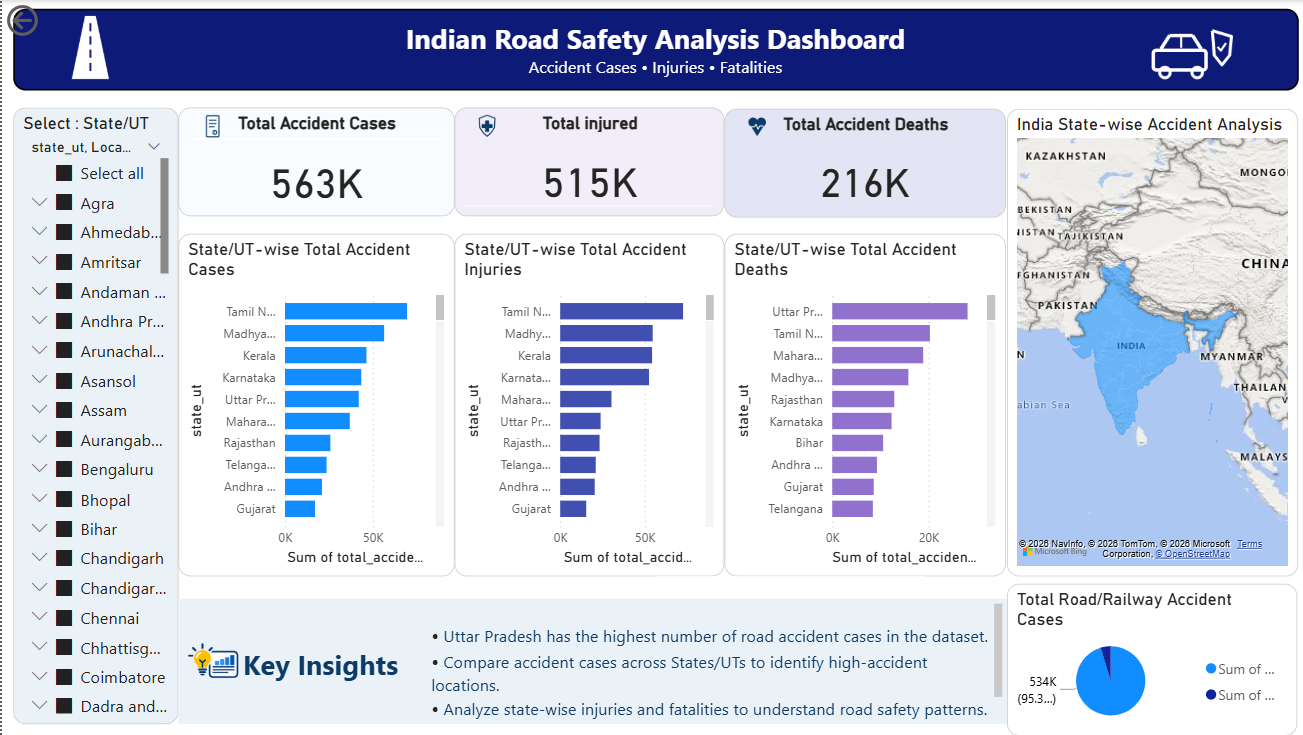

Layout of this report page (visuals, bound fields, positions):
{"tool":"powerbi","page":{"name":"Page 1","canvas":[1280,720],"ordinal":0},"visuals":[{"type":"cardVisual","title":"Total Accident Cases","fields":{"Data":["Sum(Indian_Road_Safety_Cleanesqldata_Analysis.total_accident_cases)"]},"box":[172.4,105.2,270.2,106.4],"z":0},{"type":"cardVisual","title":"Total injured","fields":{"Data":["Sum(Indian_Road_Safety_Cleanesqldata_Analysis.total_accident_injured)"]},"box":[442.7,105.2,264.1,106.4],"z":1000},{"type":"cardVisual","title":"Total Accident Deaths","fields":{"Data":["Sum(Indian_Road_Safety_Cleanesqldata_Analysis.total_accident_died)"]},"box":[706.8,106.4,275.1,106.4],"z":2000},{"type":"textbox","box":[11.2,8.8,1257.5,80],"z":3000},{"type":"clusteredBarChart","title":"State/UT-wise Total Accident Cases","fields":{"Category":["Indian_Road_Safety_Cleanesqldata_Analysis.state_ut"],"Y":["Sum(Indian_Road_Safety_Cleanesqldata_Analysis.total_accident_cases)"]},"box":[172.4,228.7,270.2,335.1],"z":4000},{"type":"clusteredBarChart","title":"State/UT-wise Total Accident Deaths","fields":{"Category":["Indian_Road_Safety_Cleanesqldata_Analysis.state_ut"],"Y":["Sum(Indian_Road_Safety_Cleanesqldata_Analysis.total_accident_died)"]},"box":[706.8,228.7,275.1,335.1],"z":5000},{"type":"clusteredBarChart","title":"State/UT-wise Total Accident Injuries","fields":{"Category":["Indian_Road_Safety_Cleanesqldata_Analysis.state_ut"],"Y":["Sum(Indian_Road_Safety_Cleanesqldata_Analysis.total_accident_injured)"]},"box":[442.7,228.7,264.1,335.1],"z":6000},{"type":"slicer","title":"Select : State/UT","fields":{"Values":["Indian_Road_Safety_Cleanesqldata_Analysis.state_ut","India_Map_Data.Location"]},"box":[11,105.2,161.4,602.9],"z":7000},{"type":"image","box":[0,5,172.5,83.8],"z":8000},{"type":"image","box":[1051.2,0,228.8,105],"z":9000},{"type":"image","box":[91.7,105.2,231.1,36.7],"z":10000},{"type":"image","box":[352.2,105.2,244.6,36.7],"z":11000},{"type":"image","box":[639.5,106.4,198.1,36.7],"z":12000},{"type":"textbox","box":[640,564,264,156],"z":13000},{"type":"textbox","box":[172.4,585.7,242.1,122.3],"z":14000},{"type":"image","box":[170,580.8,75.8,132.1],"z":15000},{"type":"textbox","box":[414.5,585.7,568.6,122.3],"z":16000},{"type":"filledMap","title":"India State-wise Accident Analysis","fields":{"Category":["India_Map_Data.Location"]},"box":[983.2,106.4,284.9,457.3],"z":17000},{"type":"actionButton","box":[0,0,100,40],"z":18000},{"type":"pieChart","title":"Total Road/Railway Accident Cases","fields":{"Y":["Sum(Indian_Road_Safety_Cleanesqldata_Analysis.road_accident_cases)","Sum(Indian_Road_Safety_Cleanesqldata_Analysis.railway_accident_cases)"]},"box":[983.2,571.1,283.7,149.2],"z":19000}]}

Visuals, with their boxes in screenshot pixels (x1, y1, x2, y2), scaled from the page's 1280x720 canvas onto the 1303x735 screenshot:
"Total Accident Cases" cardVisual: (175,107,451,216)
"Total injured" cardVisual: (451,107,720,216)
"Total Accident Deaths" cardVisual: (720,109,1000,217)
textbox: (11,9,1291,91)
"State/UT-wise Total Accident Cases" clusteredBarChart: (175,233,451,576)
"State/UT-wise Total Accident Deaths" clusteredBarChart: (720,233,1000,576)
"State/UT-wise Total Accident Injuries" clusteredBarChart: (451,233,720,576)
"Select : State/UT" slicer: (11,107,175,723)
image: (0,5,176,91)
image: (1070,0,1302,107)
image: (93,107,329,145)
image: (359,107,608,145)
image: (651,109,853,146)
textbox: (652,576,920,734)
textbox: (175,598,422,723)
image: (173,593,250,728)
textbox: (422,598,1001,723)
"India State-wise Accident Analysis" filledMap: (1001,109,1291,575)
actionButton: (0,0,102,41)
"Total Road/Railway Accident Cases" pieChart: (1001,583,1290,734)
